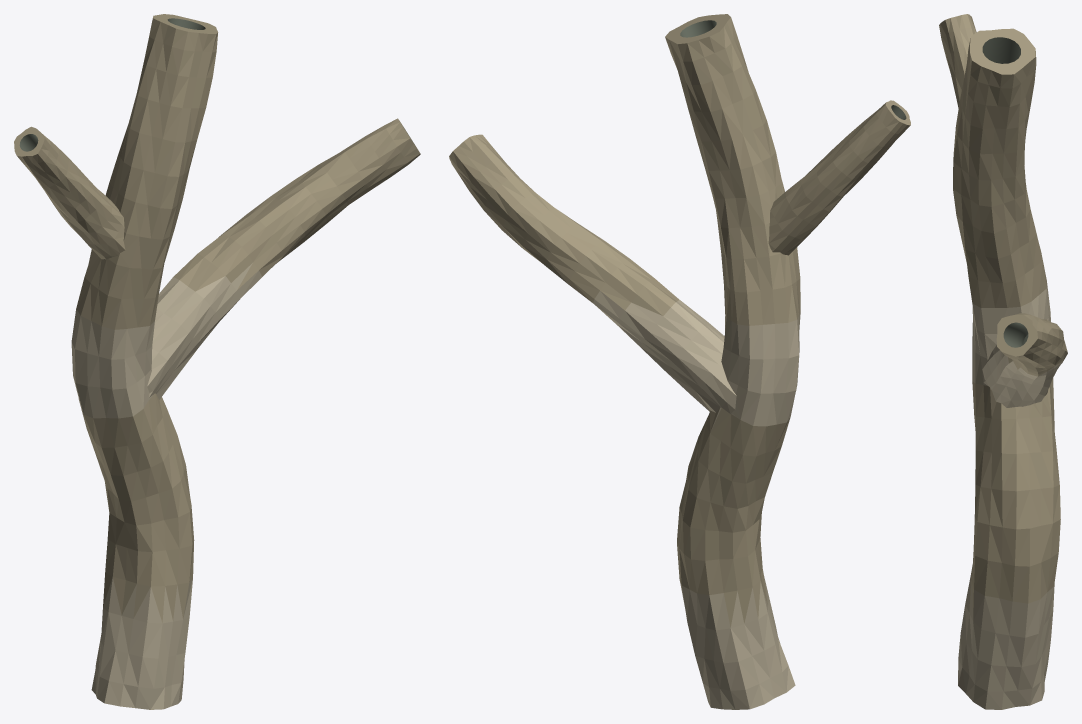
File: fulgurite-tube.glb
3 views of the same model, side by side, from view 1: azimuth 30°, elevation 25°; view 2: azimuth 150°, elevation 25°; view 3: azimuth 270°, elevation 25° (orthographic).
Visible parts, largest first — view 1: continuous-fused-sand-glass-branching-shell; view 2: continuous-fused-sand-glass-branching-shell; view 3: continuous-fused-sand-glass-branching-shell.
Boxes of the visible parts, left/top/right/bottom form: continuous-fused-sand-glass-branching-shell: left=14, top=14, right=420, bottom=709; continuous-fused-sand-glass-branching-shell: left=449, top=14, right=910, bottom=709; continuous-fused-sand-glass-branching-shell: left=939, top=14, right=1067, bottom=709.
Size of the model in its own units: 0.2007 by 0.3 by 0.0519.
